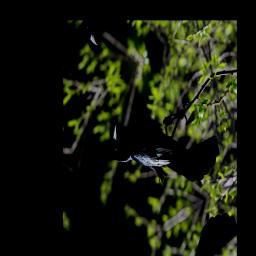Crow: (103, 66, 223, 233)
